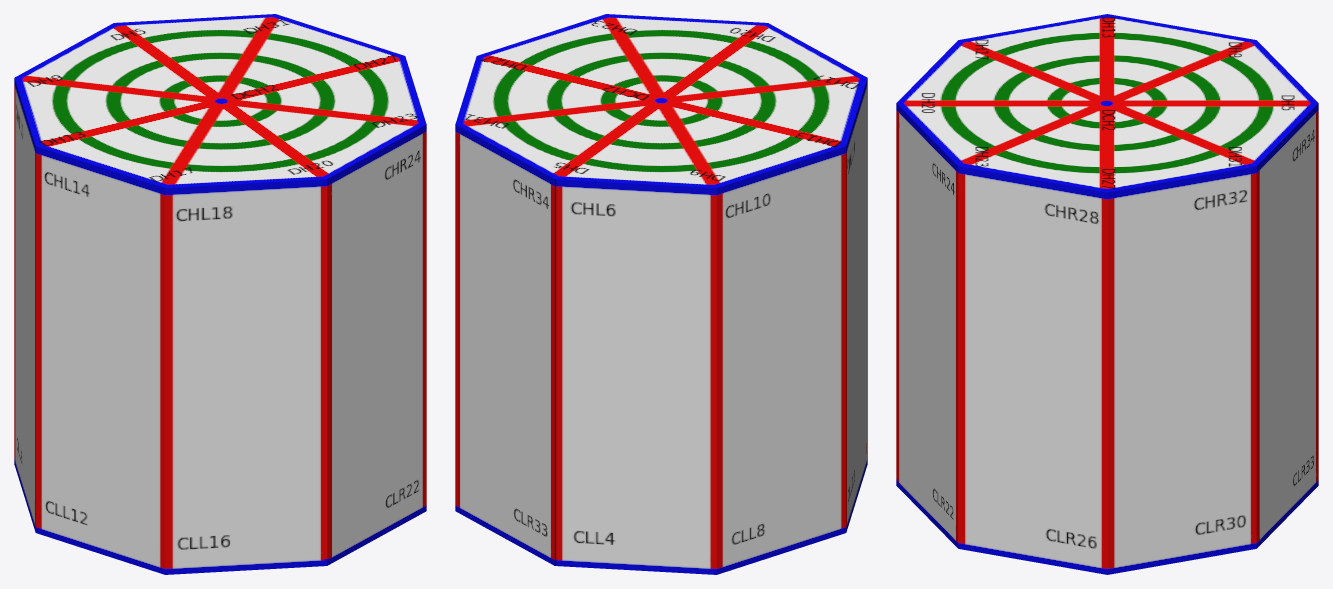
Rendered from cylindre8.obj.
3 renders of one model, left to right at view 1: azimuth 30°, elevation 25°; view 2: azimuth 150°, elevation 25°; view 3: azimuth 270°, elevation 25°, orthographic.
Bounding box in the file's own units: 2 × 2 × 2.
Materials: 1 (1 with a texture image).
